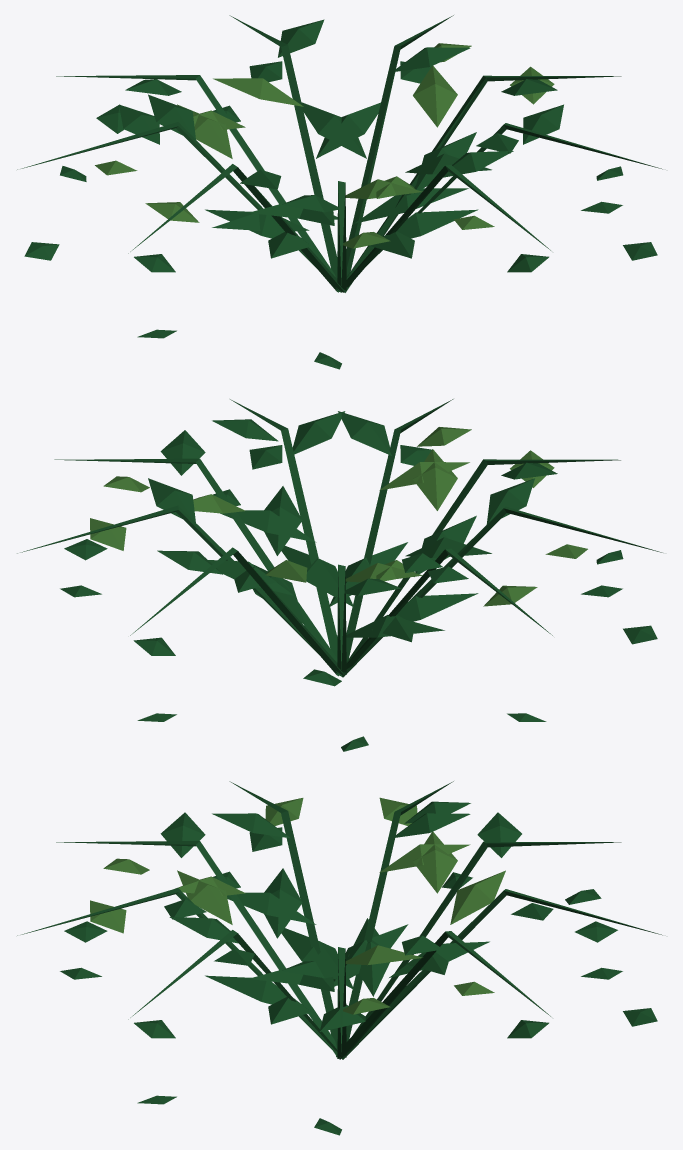
File: Samambaia_LOD1.fbx
The picture shows the model from 3 angles, top to bottom: view 1: azimuth 30°, elevation 25°; view 2: azimuth 150°, elevation 25°; view 3: azimuth 270°, elevation 25°; orthographic projection.
Parts seen in each view (by area): view 1: Samambaia_LOD1; view 2: Samambaia_LOD1; view 3: Samambaia_LOD1.
Boxes of the visible parts, bbox=[...] form: Samambaia_LOD1: bbox=[17, 15, 662, 369]; Samambaia_LOD1: bbox=[17, 399, 662, 751]; Samambaia_LOD1: bbox=[17, 781, 662, 1135].
Bounding box in the file's own units: 175 × 55.03 × 177.
1 material, 1 textured.
